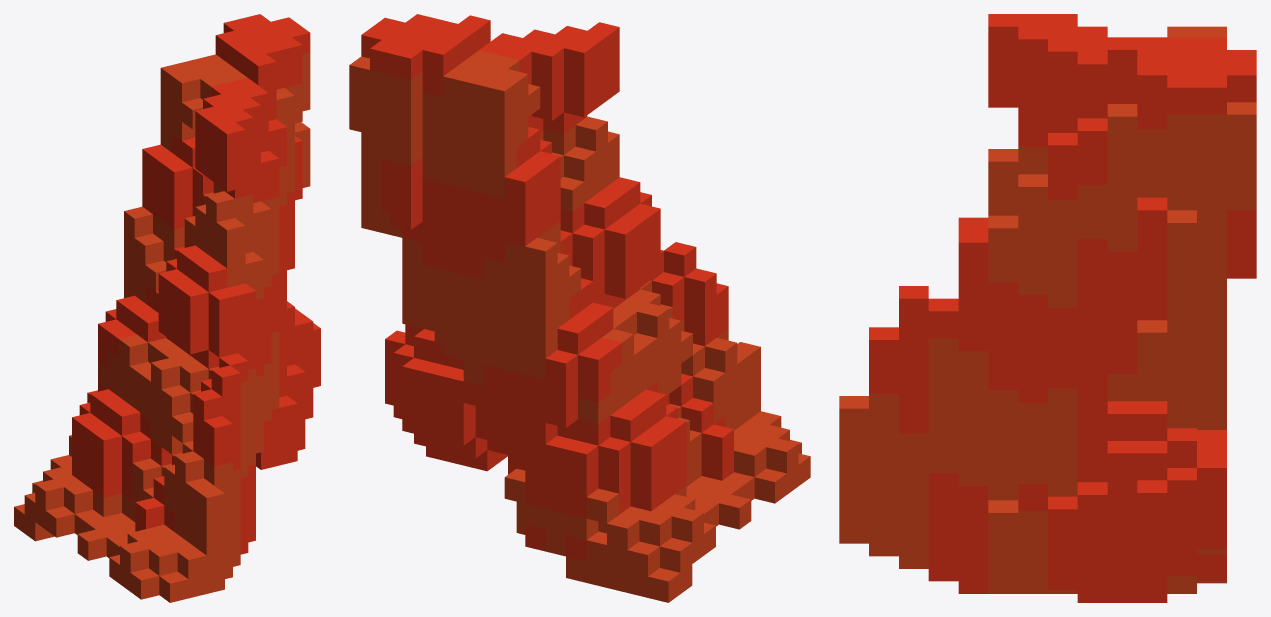
File: exite1 ( stone1).obj
The picture shows the model from 3 angles, left to right: view 1: azimuth 30°, elevation 25°; view 2: azimuth 150°, elevation 25°; view 3: azimuth 270°, elevation 25°; orthographic projection. The views are drawn at different scales.
Size of the model in its own units: 1.5 by 2.3 by 1.4.
1 material, 1 textured.
